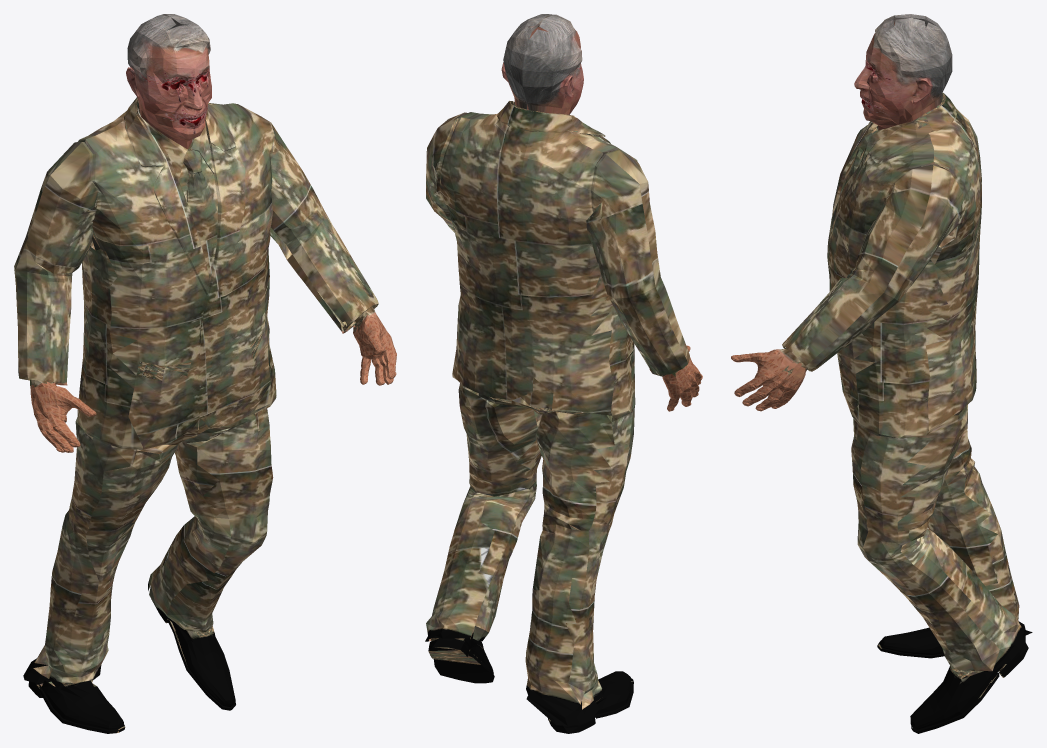
The model's file is zombie_000033.obj.
3 renders of one model, left to right at view 1: azimuth 30°, elevation 25°; view 2: azimuth 150°, elevation 25°; view 3: azimuth 270°, elevation 25°, orthographic. The views are drawn at different scales.
Visible parts, largest first — view 1: Suit_coat_orig_9___De, objGeo_Hea_orig_9___D; view 2: Suit_coat_orig_9___De, objGeo_Hea_orig_9___D; view 3: Suit_coat_orig_9___De, objGeo_Hea_orig_9___D.
Part boxes in pixels (x1=…): Suit_coat_orig_9___De: x1=14, y1=97, x2=396, y2=733; objGeo_Hea_orig_9___D: x1=126, y1=14, x2=211, y2=149; Suit_coat_orig_9___De: x1=425, y1=101, x2=702, y2=733; objGeo_Hea_orig_9___D: x1=501, y1=14, x2=583, y2=114; Suit_coat_orig_9___De: x1=731, y1=92, x2=1032, y2=733; objGeo_Hea_orig_9___D: x1=854, y1=14, x2=952, y2=130.
Bounding box in the file's own units: 0.8599 × 1.92 × 0.7684.
